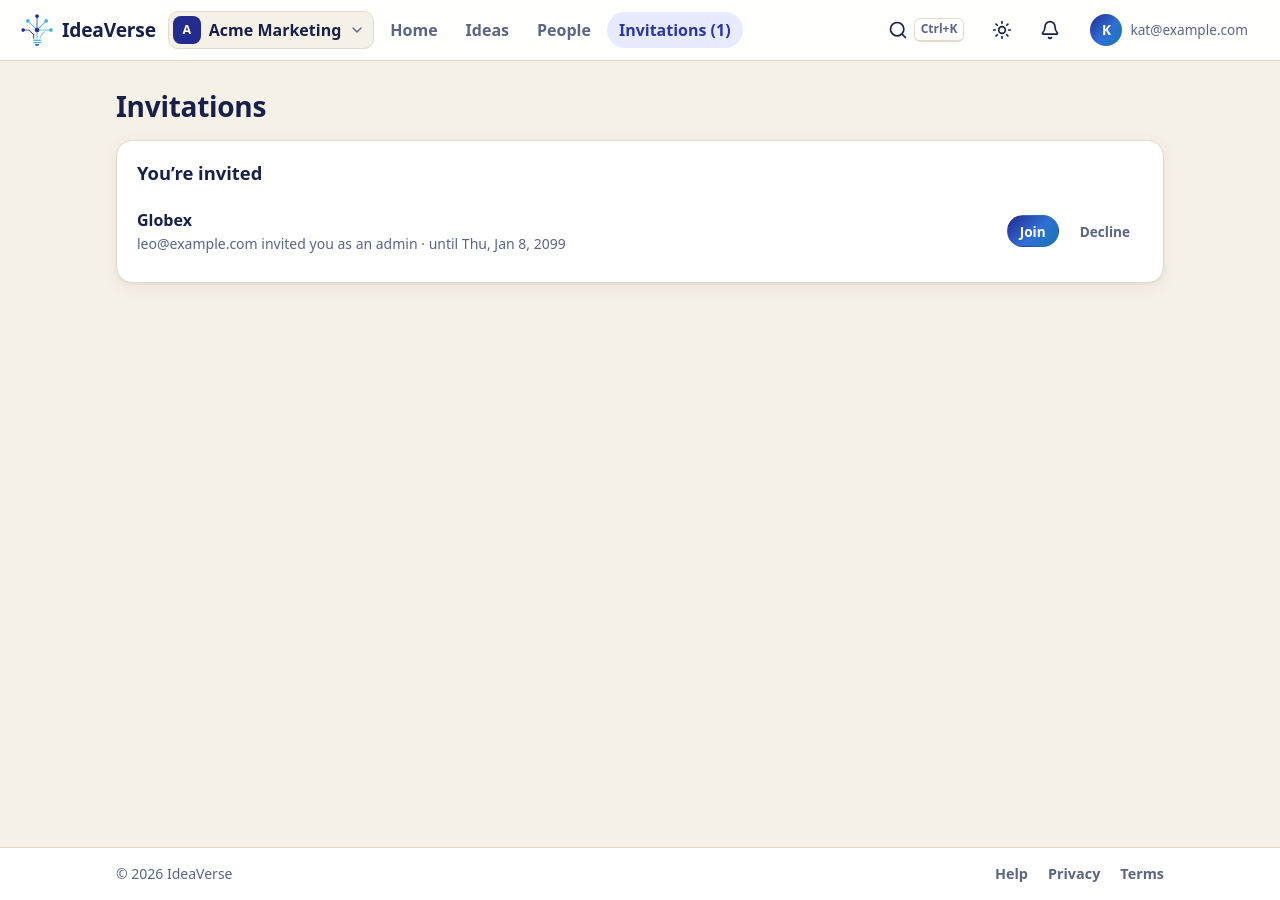
InvitationsPage › joins a workspace and opens it
Expected: the text "leo@example.com invited you as an admin" is shown, left=137, top=233, right=566, bottom=254
What coordinates should you click on to do the following:
click the button with aria-label "Join Globex"
I would click on:
 (1033, 231)
Its box is left=1007, top=215, right=1059, bottom=247.
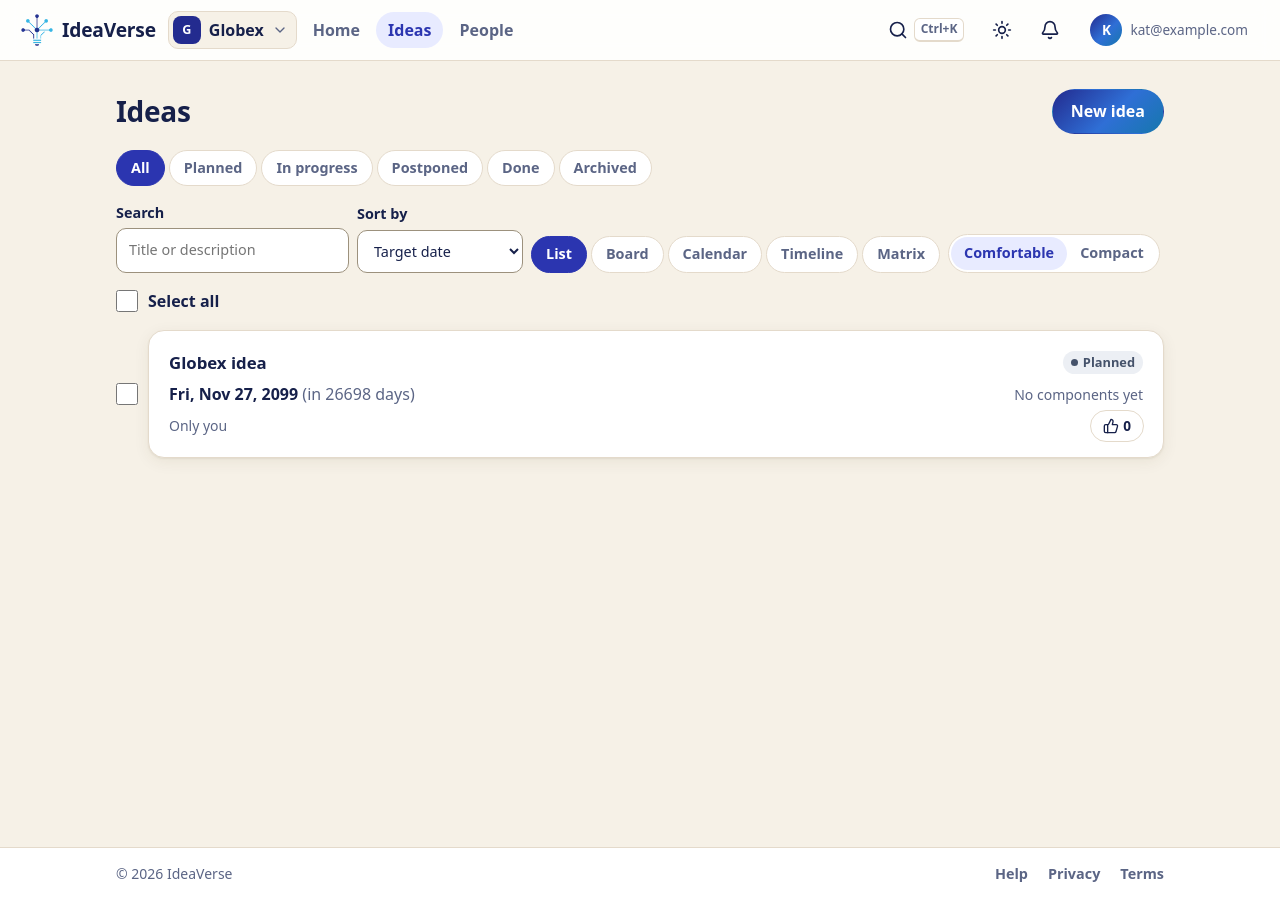
Result: the link "Globex idea" is shown at left=169, top=351, right=267, bottom=374
Result: the button with aria-label "Workspace: Globex" is shown at left=168, top=11, right=297, bottom=49
